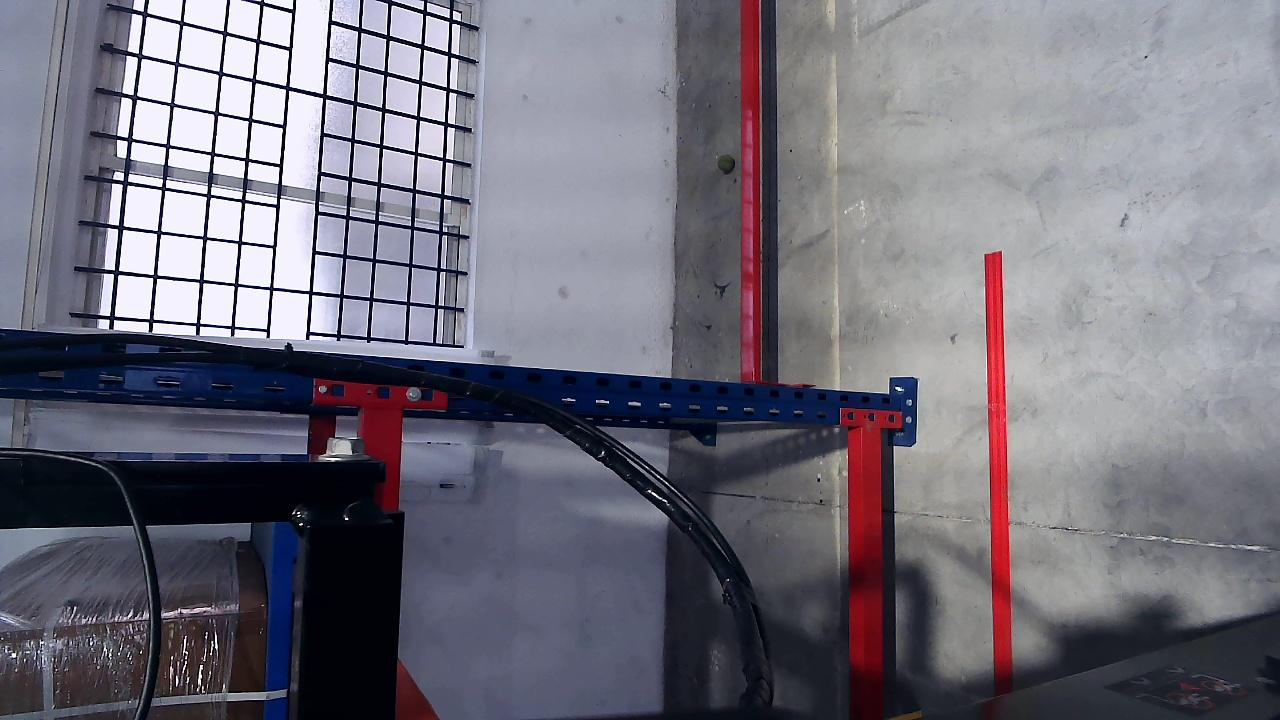h_rack: (849, 427, 888, 715)
red_line: (980, 247, 1014, 681)
